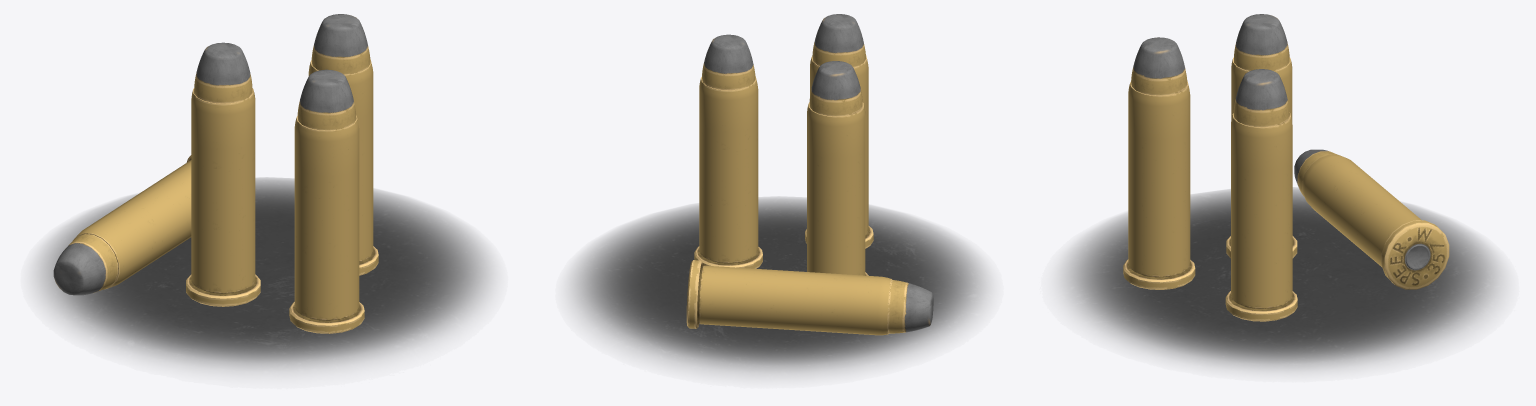
The model's file is silver-bullet.glb.
The picture shows the model from 3 angles, left to right: view 1: azimuth 30°, elevation 25°; view 2: azimuth 150°, elevation 25°; view 3: azimuth 270°, elevation 25°; orthographic projection. The views are drawn at different scales.
Parts seen in each view (by area): view 1: Cylinder001_09 - Default_0, bullet_mesh003_03 - Default_0, bullet_mesh_03 - Default_0, bullet_mesh001_03 - Default_0, bullet_mesh002_03 - Default_0; view 2: Cylinder001_09 - Default_0, bullet_mesh001_03 - Default_0, bullet_mesh002_03 - Default_0, bullet_mesh_03 - Default_0, bullet_mesh003_03 - Default_0; view 3: Cylinder001_09 - Default_0, bullet_mesh003_03 - Default_0, bullet_mesh002_03 - Default_0, bullet_mesh001_03 - Default_0, bullet_mesh_03 - Default_0.
Boxes of the visible parts, x1=… form: Cylinder001_09 - Default_0: x1=35, y1=177, x2=493, y2=372; bullet_mesh003_03 - Default_0: x1=289, y1=69, x2=364, y2=333; bullet_mesh_03 - Default_0: x1=186, y1=42, x2=260, y2=306; bullet_mesh001_03 - Default_0: x1=53, y1=155, x2=191, y2=295; bullet_mesh002_03 - Default_0: x1=308, y1=14, x2=378, y2=275; Cylinder001_09 - Default_0: x1=569, y1=197, x2=989, y2=376; bullet_mesh001_03 - Default_0: x1=686, y1=260, x2=933, y2=335; bullet_mesh002_03 - Default_0: x1=694, y1=34, x2=762, y2=268; bullet_mesh_03 - Default_0: x1=807, y1=61, x2=868, y2=275; bullet_mesh003_03 - Default_0: x1=805, y1=14, x2=873, y2=248; Cylinder001_09 - Default_0: x1=1060, y1=187, x2=1503, y2=371; bullet_mesh003_03 - Default_0: x1=1123, y1=37, x2=1195, y2=289; bullet_mesh002_03 - Default_0: x1=1225, y1=69, x2=1297, y2=321; bullet_mesh001_03 - Default_0: x1=1294, y1=149, x2=1449, y2=289; bullet_mesh_03 - Default_0: x1=1226, y1=14, x2=1297, y2=258.
Size of the model in its own units: 951 by 527 by 946.
2 materials, 2 textured.
